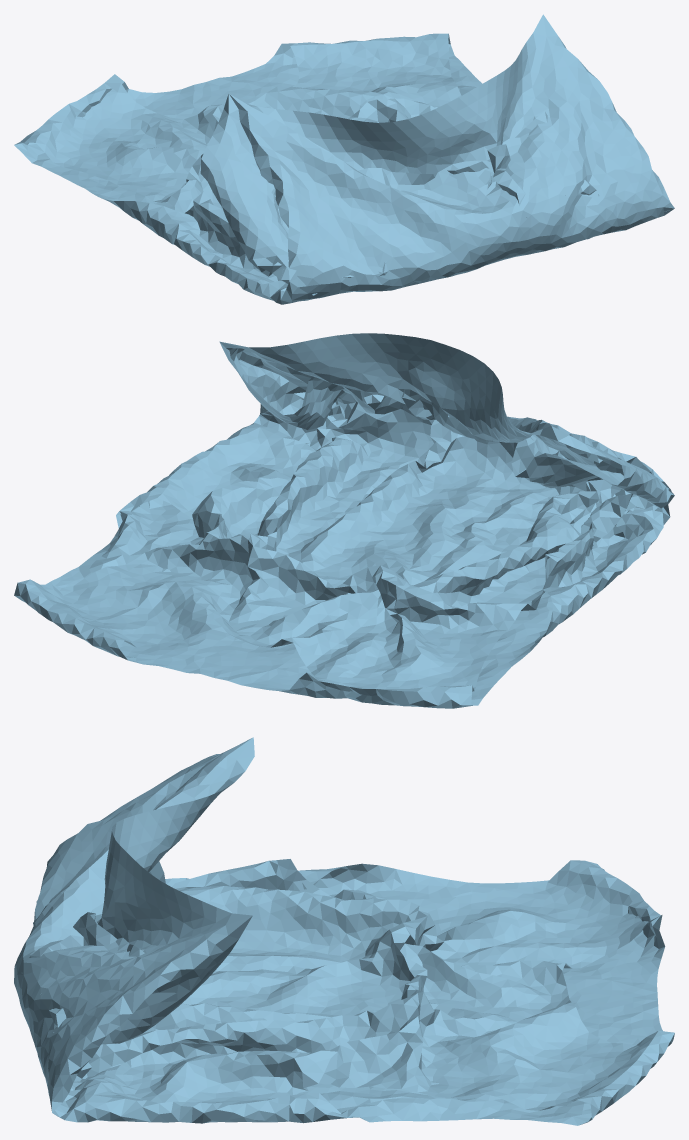
File: frame_11.glb
The picture shows the model from 3 angles, top to bottom: view 1: azimuth 30°, elevation 25°; view 2: azimuth 150°, elevation 25°; view 3: azimuth 270°, elevation 25°; orthographic projection. The views are drawn at different scales.
Parts seen in each view (by area): view 1: frame_11.obj; view 2: frame_11.obj; view 3: frame_11.obj.
Boxes of the visible parts, bbox=[...] form: frame_11.obj: bbox=[14, 14, 674, 304]; frame_11.obj: bbox=[14, 333, 674, 708]; frame_11.obj: bbox=[14, 737, 674, 1125].
Bounding box in the file's own units: 1.24 × 0.432 × 1.37.
